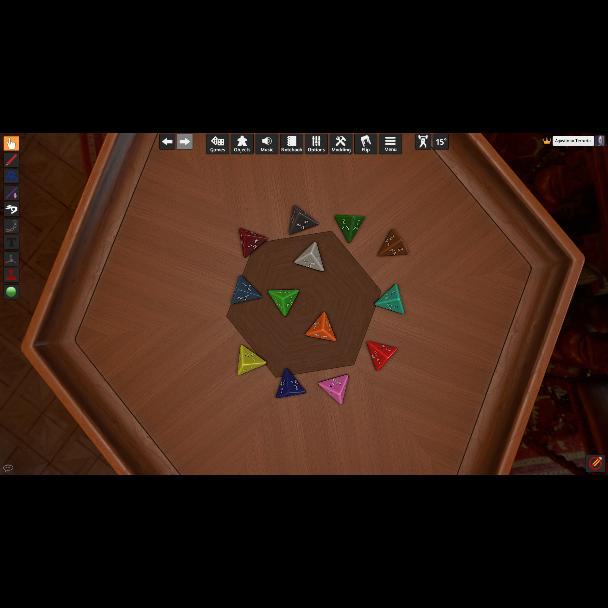d4: (375, 284, 405, 314), (237, 344, 267, 374), (304, 312, 334, 342), (288, 206, 318, 236), (318, 375, 348, 405), (368, 341, 398, 371), (294, 242, 324, 272), (231, 276, 263, 304), (334, 215, 364, 243), (268, 289, 298, 317), (276, 368, 304, 398), (377, 229, 407, 257), (239, 228, 267, 258)
